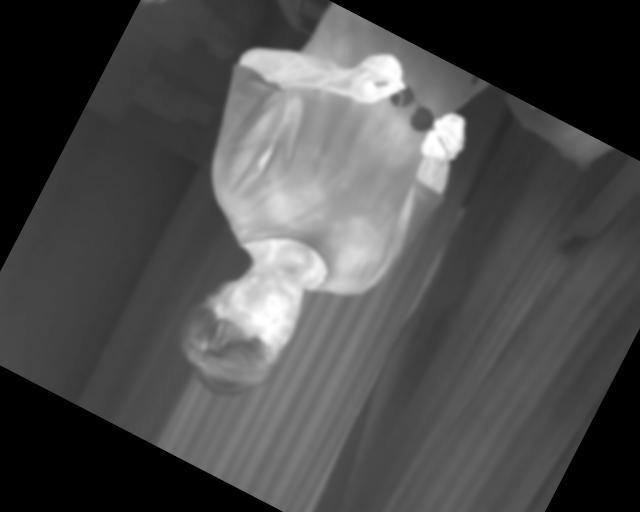face: (159, 237, 321, 415)
